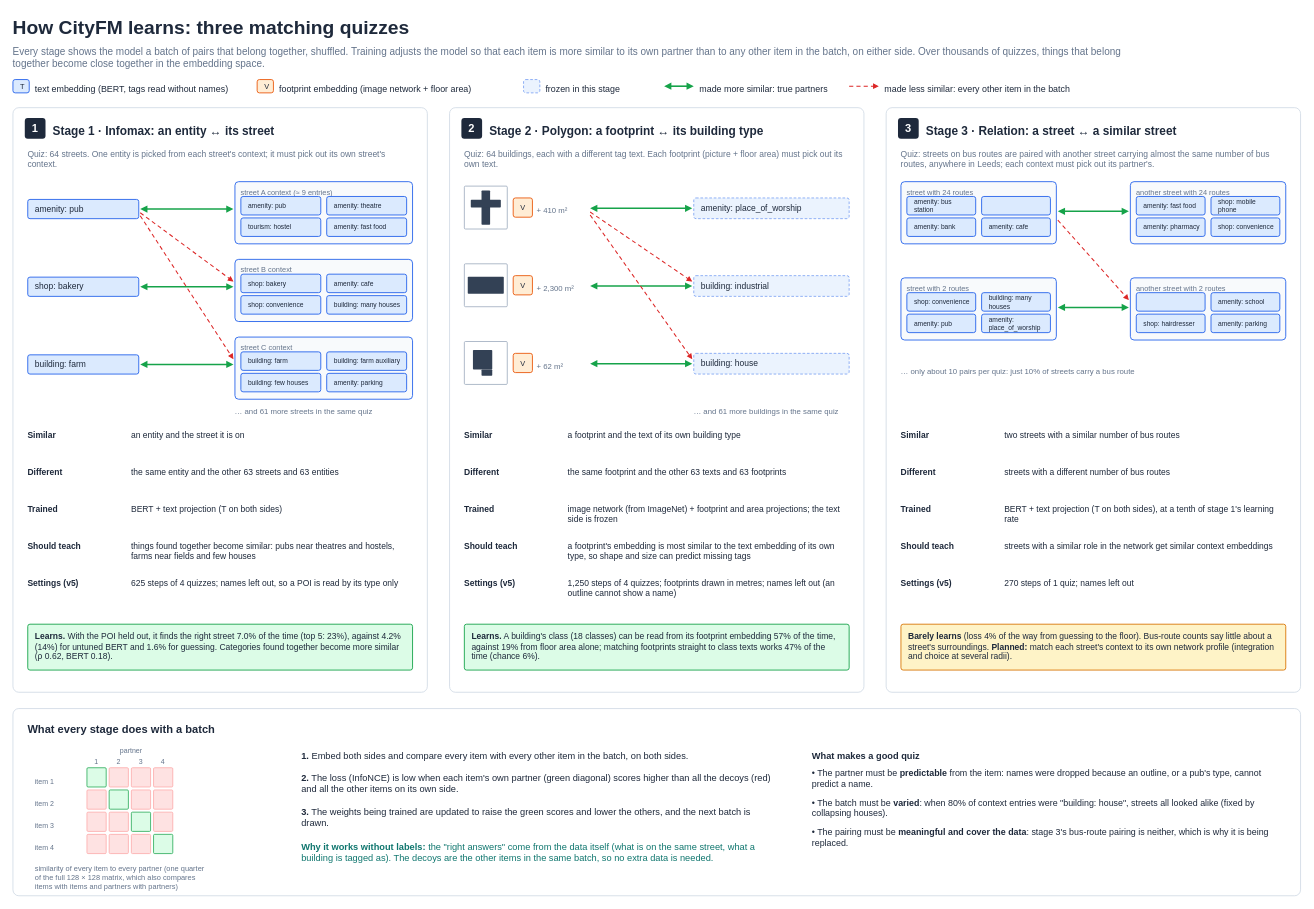
The diagram is 1314 pixels wide and 909 high, and some of its shapes have lost their labels. Each missing label, with the box of its shape:
building: very many houses: (1135, 292, 1205, 311)
shop: clothes: (981, 196, 1051, 215)
